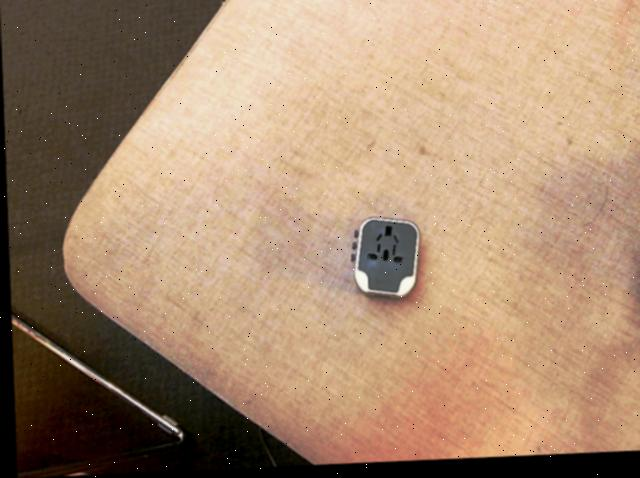adapter: (347, 218, 419, 304)
